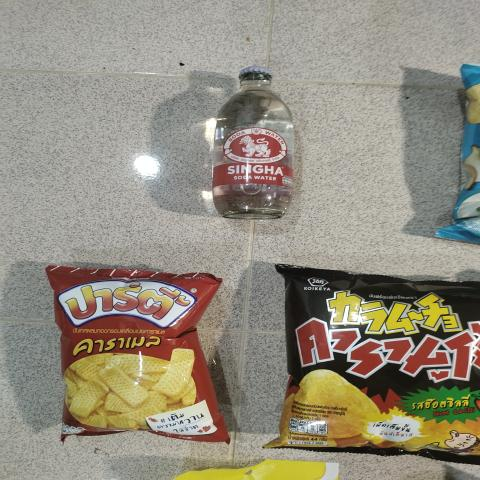karamujo: (286, 278, 476, 468)
party_red: (60, 276, 218, 440)
singha_soda: (211, 60, 312, 231)
